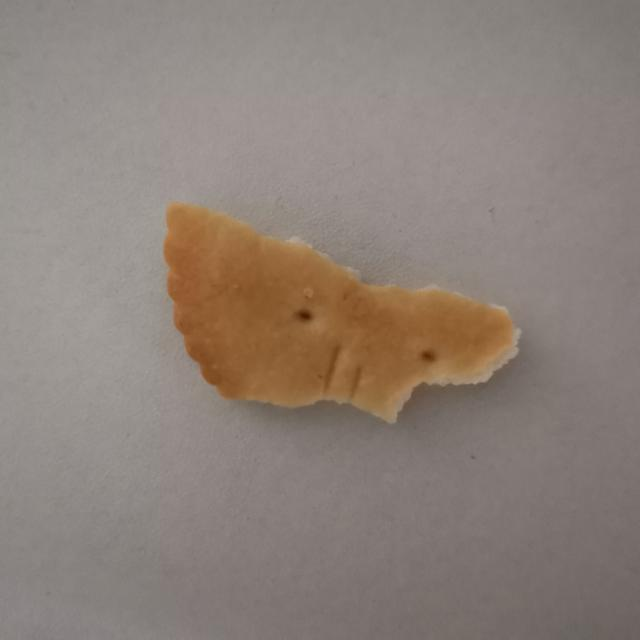Broken: (162, 200, 522, 424)
